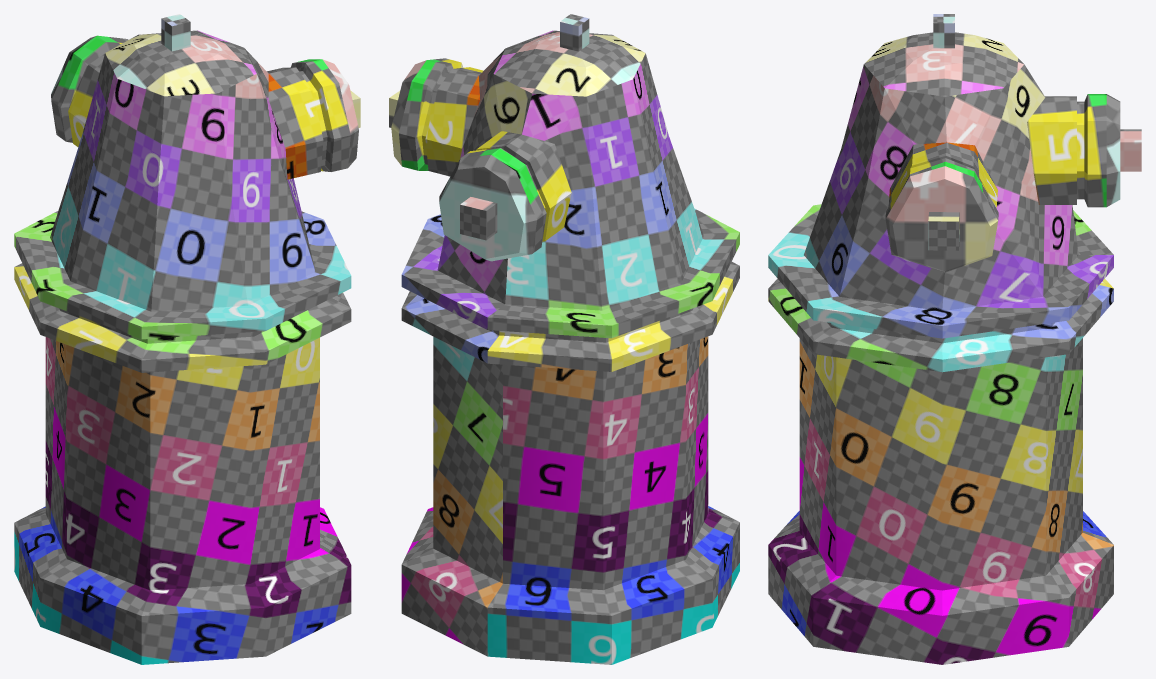
The model's file is FireHydrant.fbx.
The picture shows the model from 3 angles, left to right: view 1: azimuth 30°, elevation 25°; view 2: azimuth 150°, elevation 25°; view 3: azimuth 270°, elevation 25°; orthographic projection.
Parts seen in each view (by area): view 1: pCube3; view 2: pCube3; view 3: pCube3.
Boxes of the visible parts, x1,y1,x2,y2 form: pCube3: (14,14,360,664); pCube3: (389,14,739,664); pCube3: (768,14,1141,664).
Bounding box in the file's own units: 3.64 × 6.35 × 3.74.
